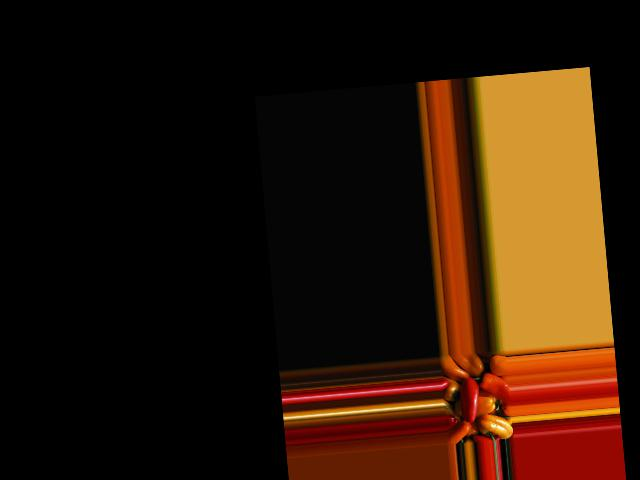bell_pepper: (479, 410, 512, 441)
